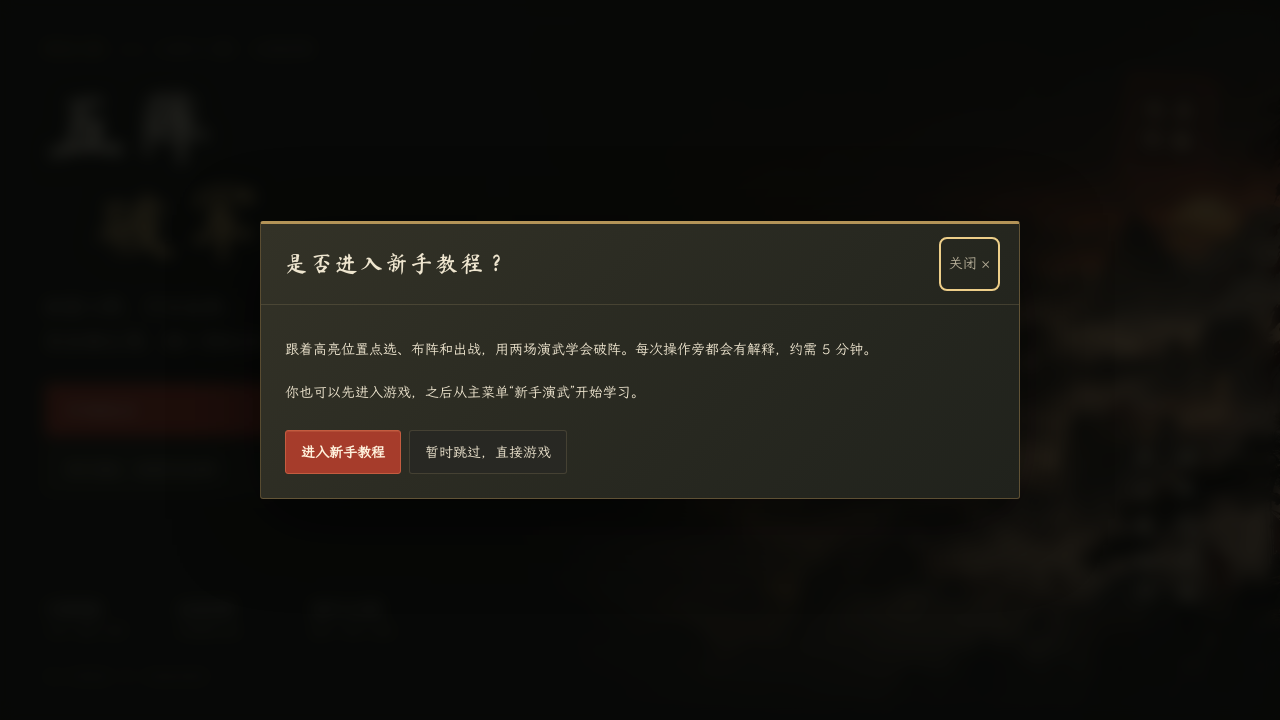
Test: 首次进入游戏的教学选择 › 首次选择无法保存时明确提示，允许重试
This screenshot has width=1280, height=720.
Click the button "暂时跳过，直接游戏".
click(488, 452)  # box top-left (409, 430), bottom-right (567, 474)
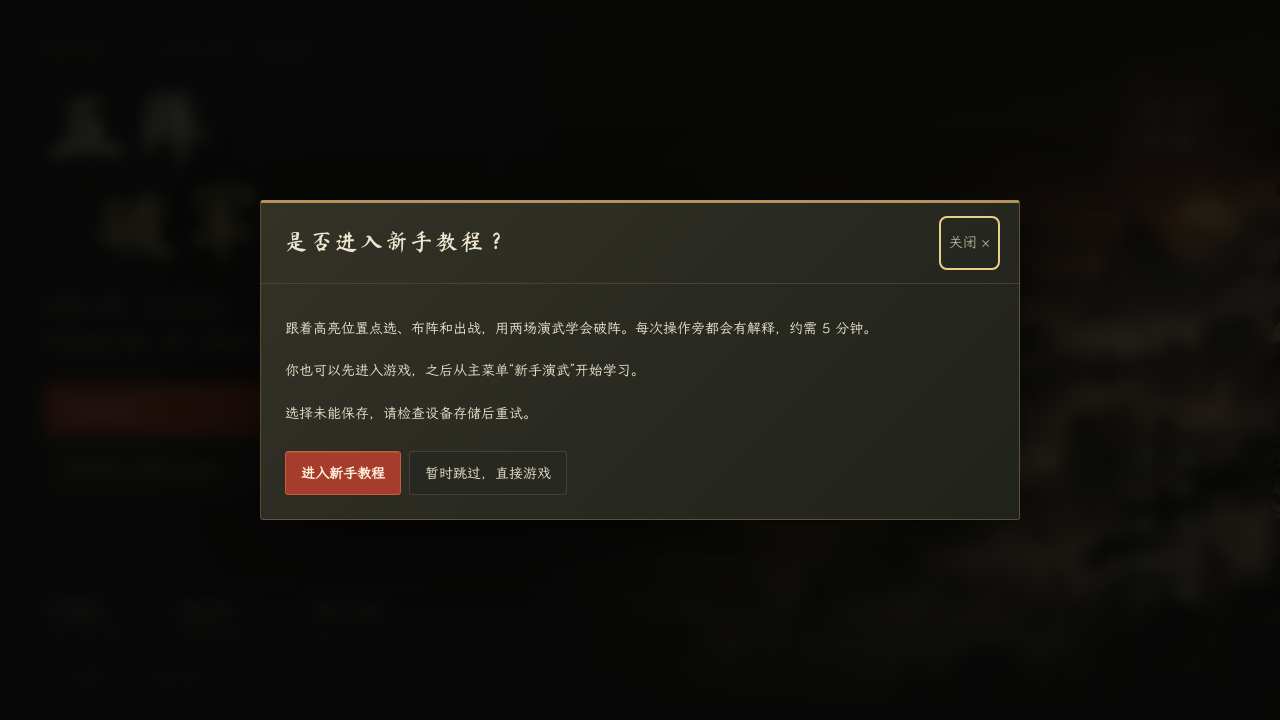
Expected: the dialog is shown, top-left (260, 200), bottom-right (1020, 520)
Expected: the message shows "选择未能保存", top-left (285, 405), bottom-right (537, 422)
Click the button "暂时跳过，直接游戏".
click(488, 473)  # box top-left (409, 451), bottom-right (567, 495)
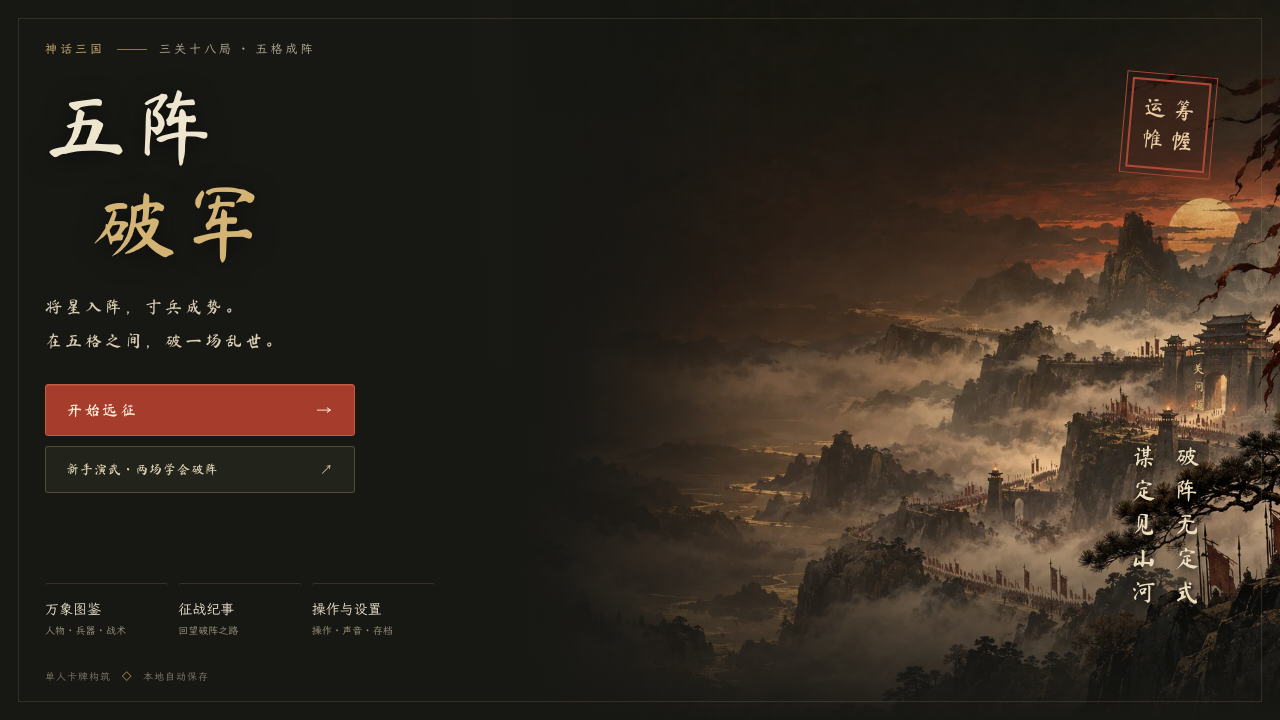
Expected: the dialog is gone
